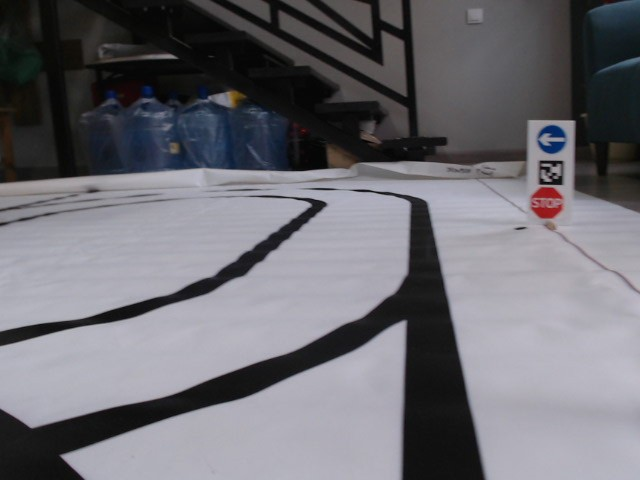Stop: (530, 186, 563, 219)
